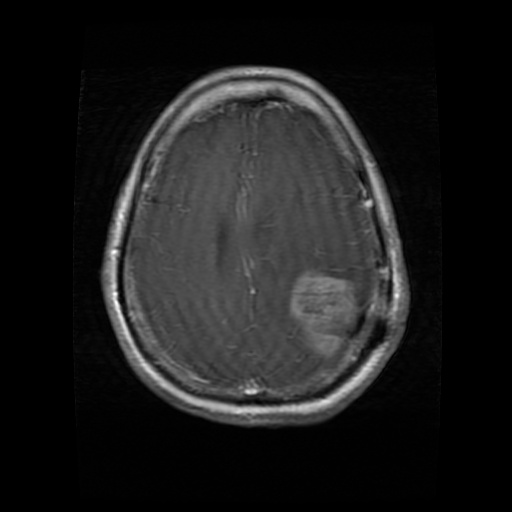glioma: (286, 266, 360, 355)
